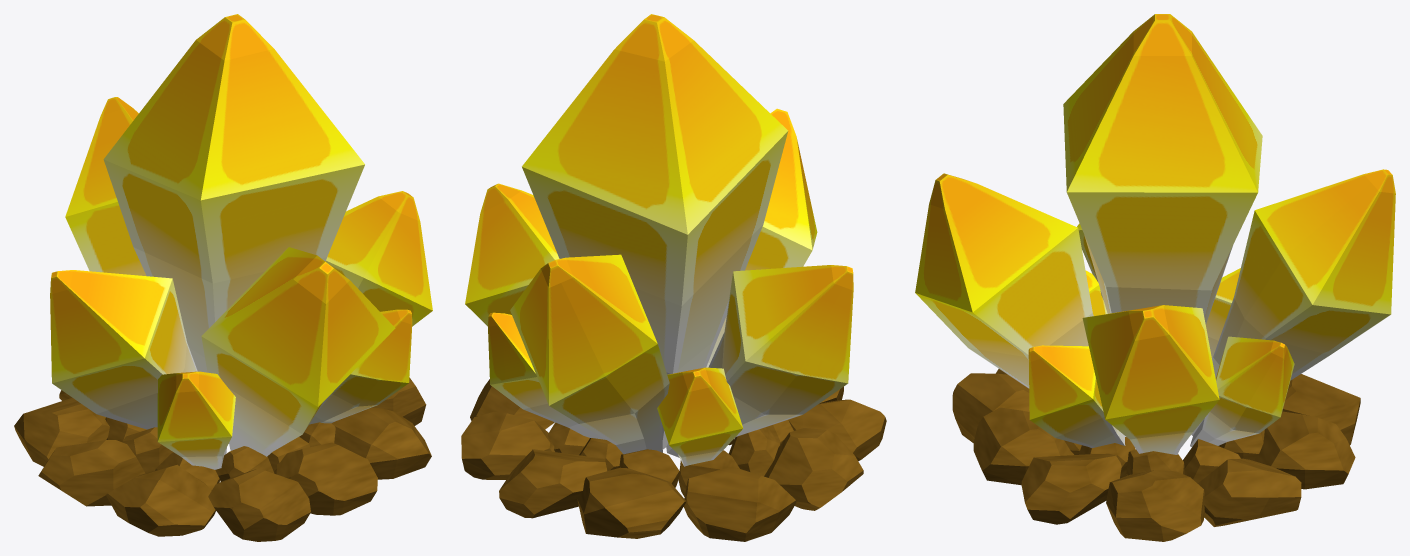
The model's file is cristal_amarillo.obj.
3 renders of one model, left to right at view 1: azimuth 30°, elevation 25°; view 2: azimuth 150°, elevation 25°; view 3: azimuth 270°, elevation 25°, orthographic.
Parts seen in each view (by area): view 1: Object_4, Object_8, Object_6; view 2: Object_4, Object_8, Object_6; view 3: Object_4, Object_8, Object_6.
Part boxes in pixels (<box>): Object_4: <box>50,14,432,469</box>; Object_8: <box>14,377,431,541</box>; Object_6: <box>105,417,335,490</box>; Object_4: <box>465,14,853,466</box>; Object_8: <box>461,379,886,541</box>; Object_6: <box>548,420,793,496</box>; Object_4: <box>915,14,1395,454</box>; Object_8: <box>952,369,1360,541</box>; Object_6: <box>1064,430,1264,483</box>.
Bounding box in the file's own units: 2.87 × 3.32 × 3.22.
